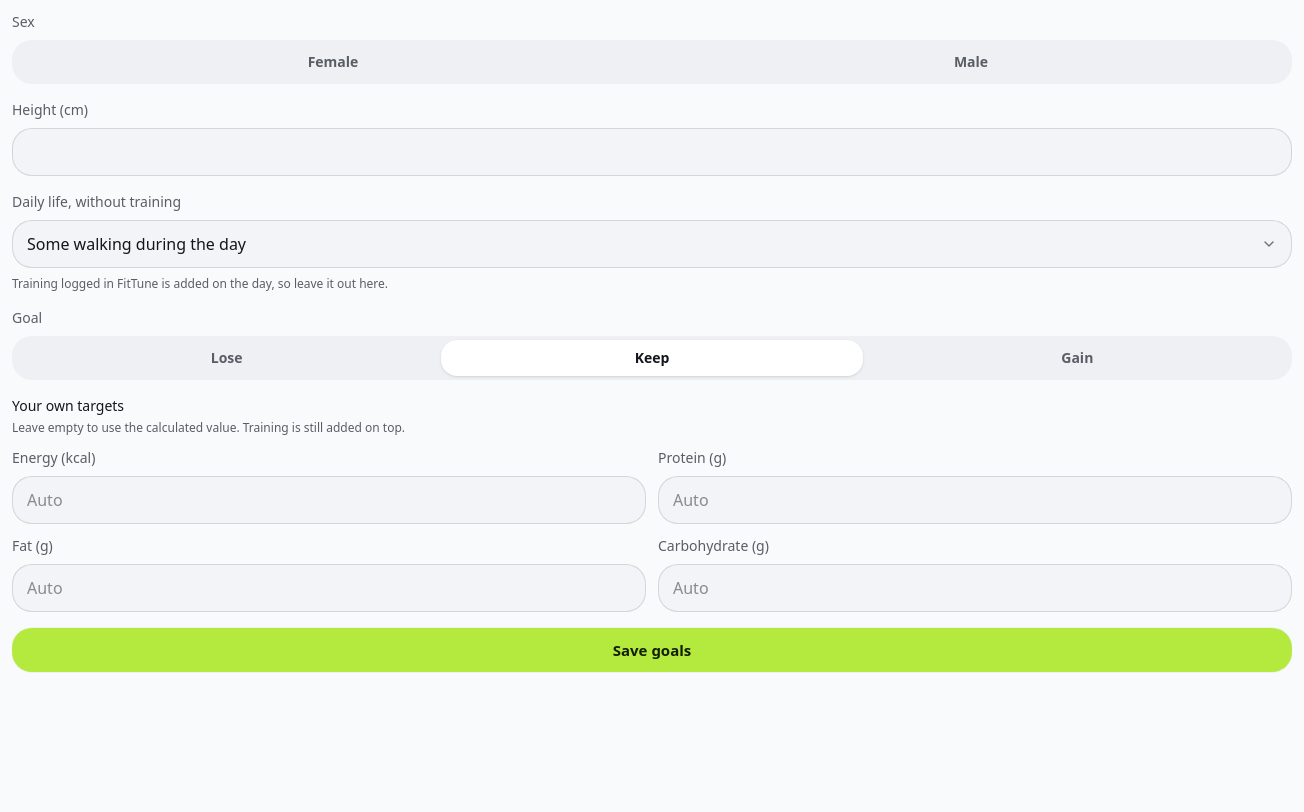
asks for the body details before saving
Click the button "Save goals": (652, 650) [12, 628, 1292, 672]
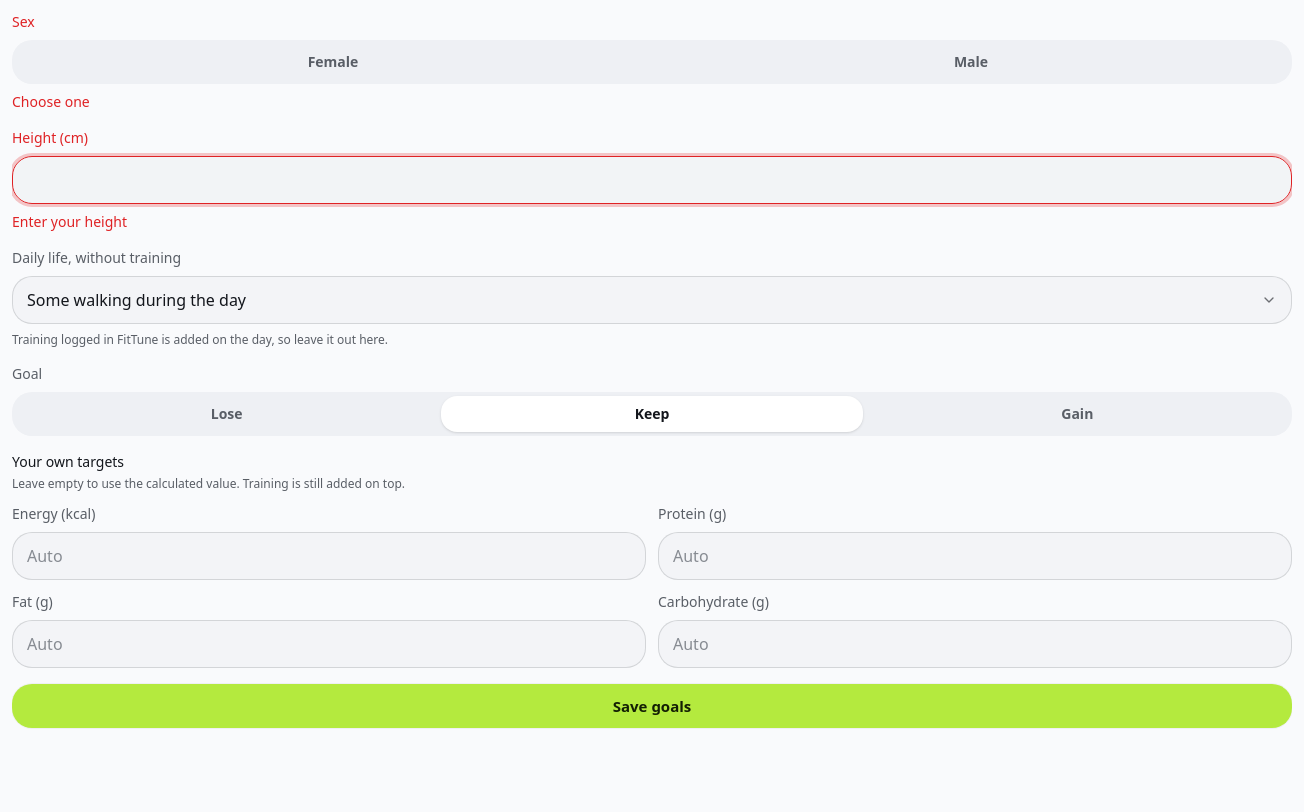
Expected: the text "Enter your height" is shown, [12, 212, 127, 231]
Expected: the text "Choose one" is shown, [12, 92, 90, 111]
